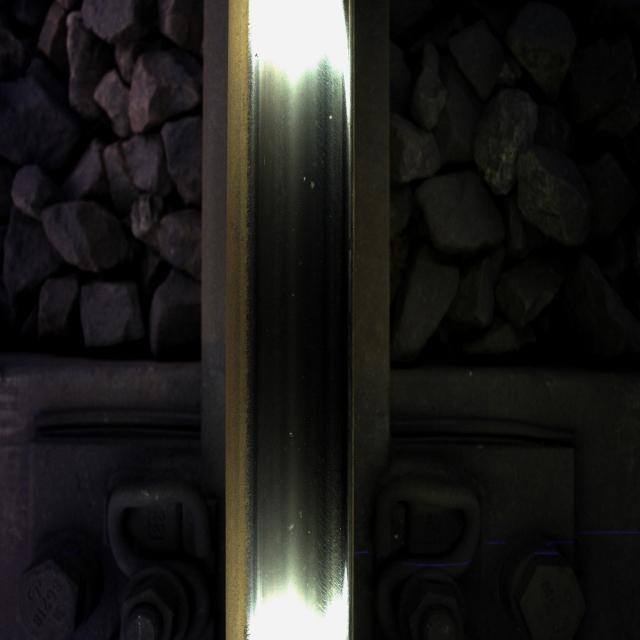break: (250, 45, 341, 570)
